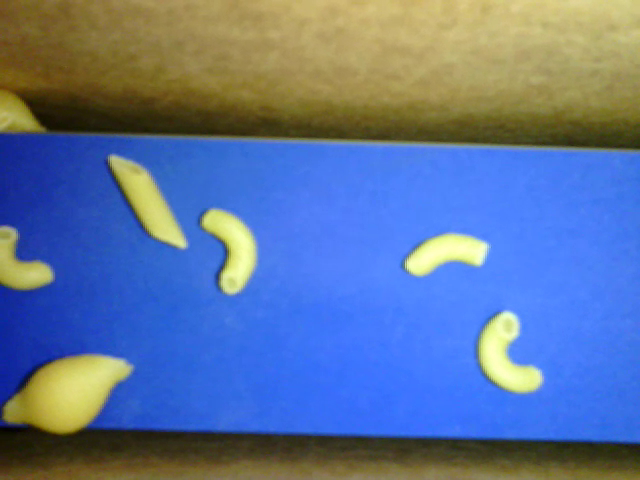elbow: (478, 312, 545, 394), (198, 204, 256, 294), (402, 230, 490, 277), (1, 222, 53, 291), (1, 105, 16, 130)
penne: (106, 153, 185, 250)
shell: (1, 354, 133, 432), (1, 86, 51, 134)
